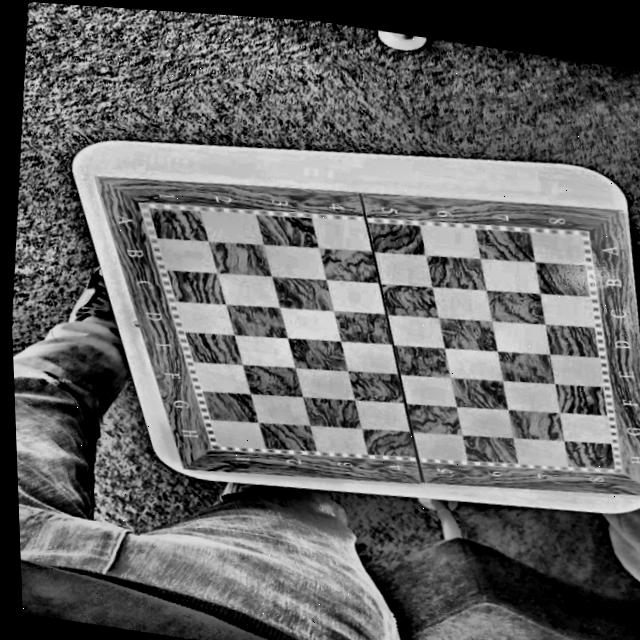chessboard: (71, 108, 640, 531)
